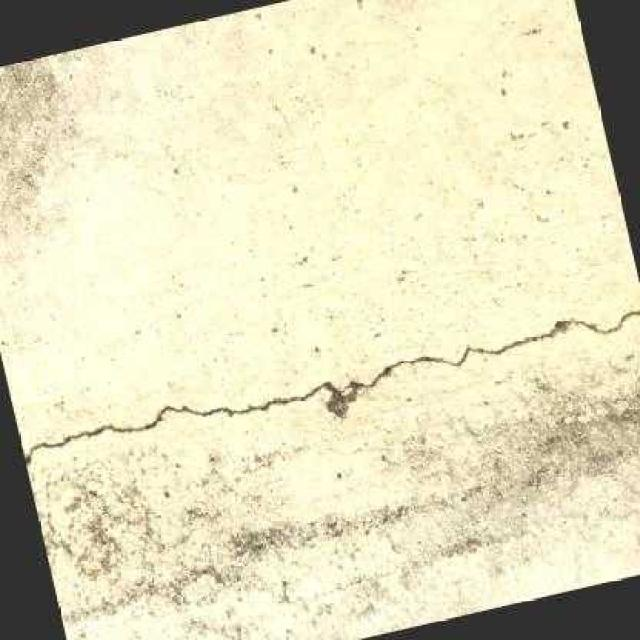D00: (23, 301, 640, 460)
